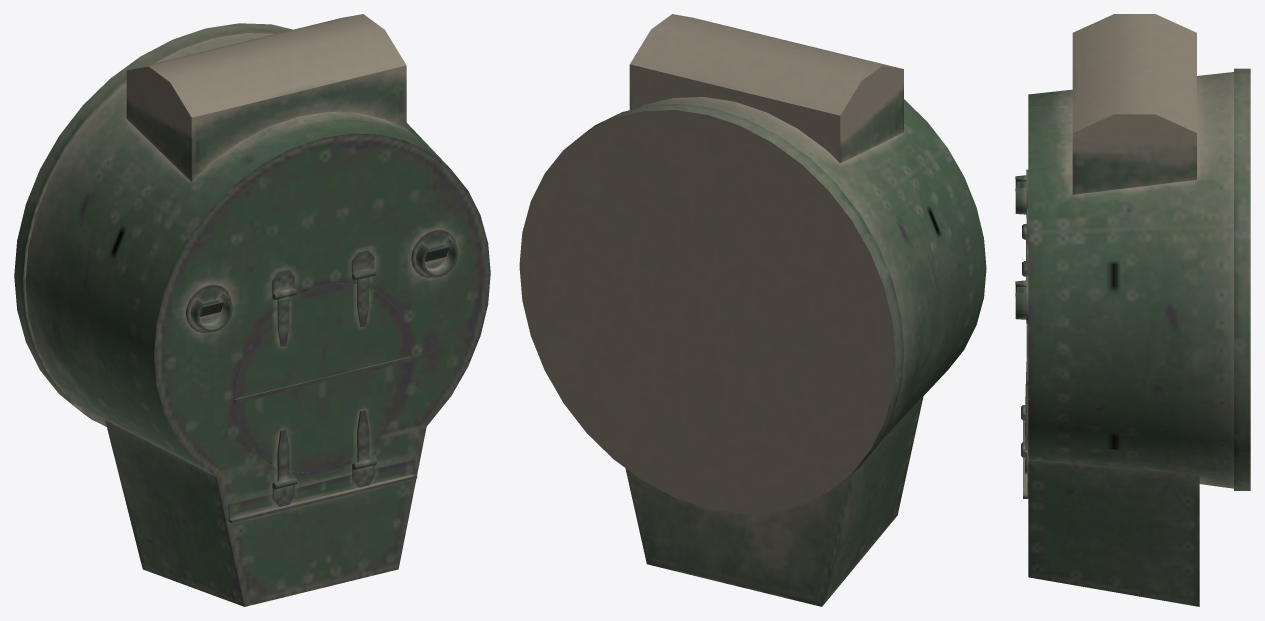
File: Turret_02.glb
3 renders of one model, left to right at view 1: azimuth 30°, elevation 25°; view 2: azimuth 150°, elevation 25°; view 3: azimuth 270°, elevation 25°, orthographic. The views are drawn at different scales.
Parts seen in each view (by area): view 1: set_0_group_0; view 2: set_0_group_0; view 3: set_0_group_0.
Boxes of the visible parts, <box> form: set_0_group_0: <box>14,14,490,606</box>; set_0_group_0: <box>519,14,986,606</box>; set_0_group_0: <box>1015,14,1250,606</box>.
Size of the model in its own units: 1.24 by 1.62 by 0.6907.
1 material, 1 textured.
